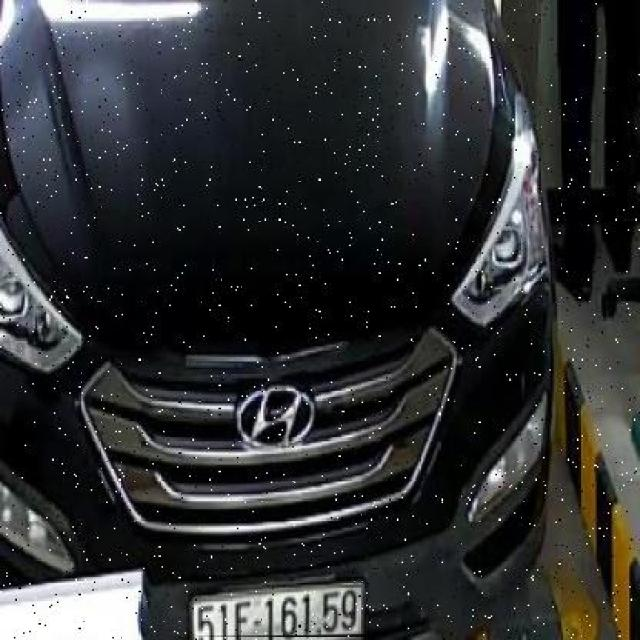number_plate: (185, 587, 370, 638)
